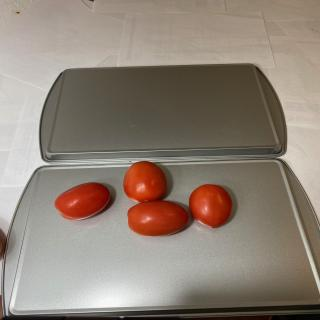Tomato: (127, 200, 189, 237), (54, 182, 110, 220), (188, 184, 232, 228), (123, 161, 167, 202)
